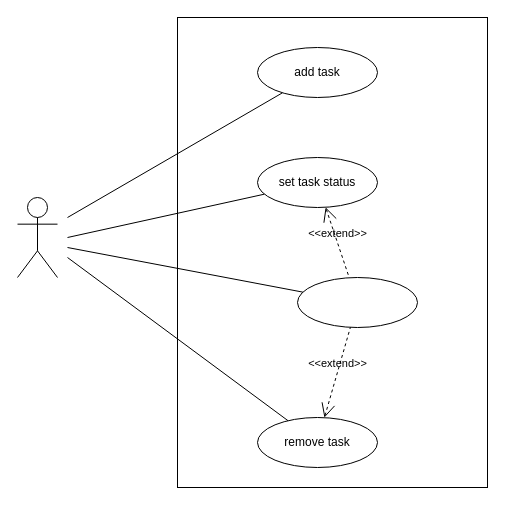
Image size: 505x505. Some labels were removed from this diagram. Here are the shapes that lost their labels. From the top down, the box of each, then its label:
(16, 196, 58, 278): User
(296, 276, 418, 328): find task
